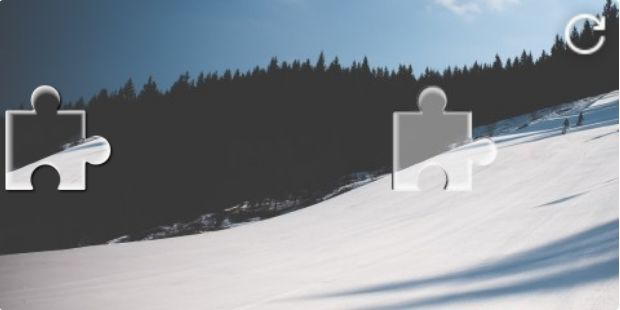target: (393, 85, 498, 191)
